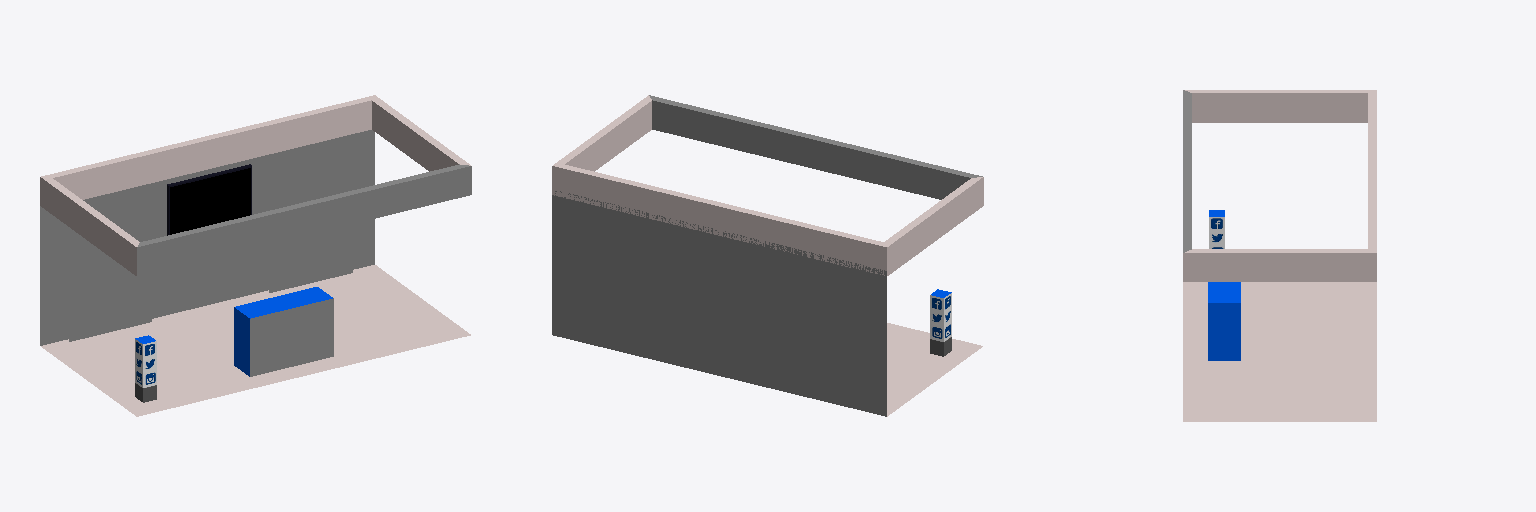
3 renders of one model, left to right at view 1: azimuth 30°, elevation 25°; view 2: azimuth 150°, elevation 25°; view 3: azimuth 270°, elevation 25°, orthographic.
Visible parts, largest first — view 1: Box004, Plane001, Plane002, Pendon002, Pendon1, Box001, tv001, Box003; view 2: Plane002, Box004, Plane001, Box003; view 3: Plane001, Box004, Box001, Box003.
Boxes of the visible parts, x1,y1,x2,y2 form: Box004: [40, 95, 471, 276]; Plane001: [41, 265, 470, 416]; Plane002: [40, 130, 374, 345]; Pendon002: [269, 134, 352, 292]; Pendon1: [69, 183, 151, 341]; Box001: [234, 287, 333, 376]; tv001: [167, 164, 251, 235]; Box003: [135, 335, 156, 402]; Plane002: [552, 191, 886, 416]; Box004: [552, 95, 983, 275]; Plane001: [887, 323, 982, 416]; Box003: [930, 289, 951, 356]; Plane001: [1183, 282, 1376, 421]; Box004: [1183, 90, 1376, 281]; Box001: [1208, 282, 1240, 360]; Box003: [1209, 210, 1224, 248].
Size of the model in its own units: 236 by 114 by 118.
10 materials, 1 textured.